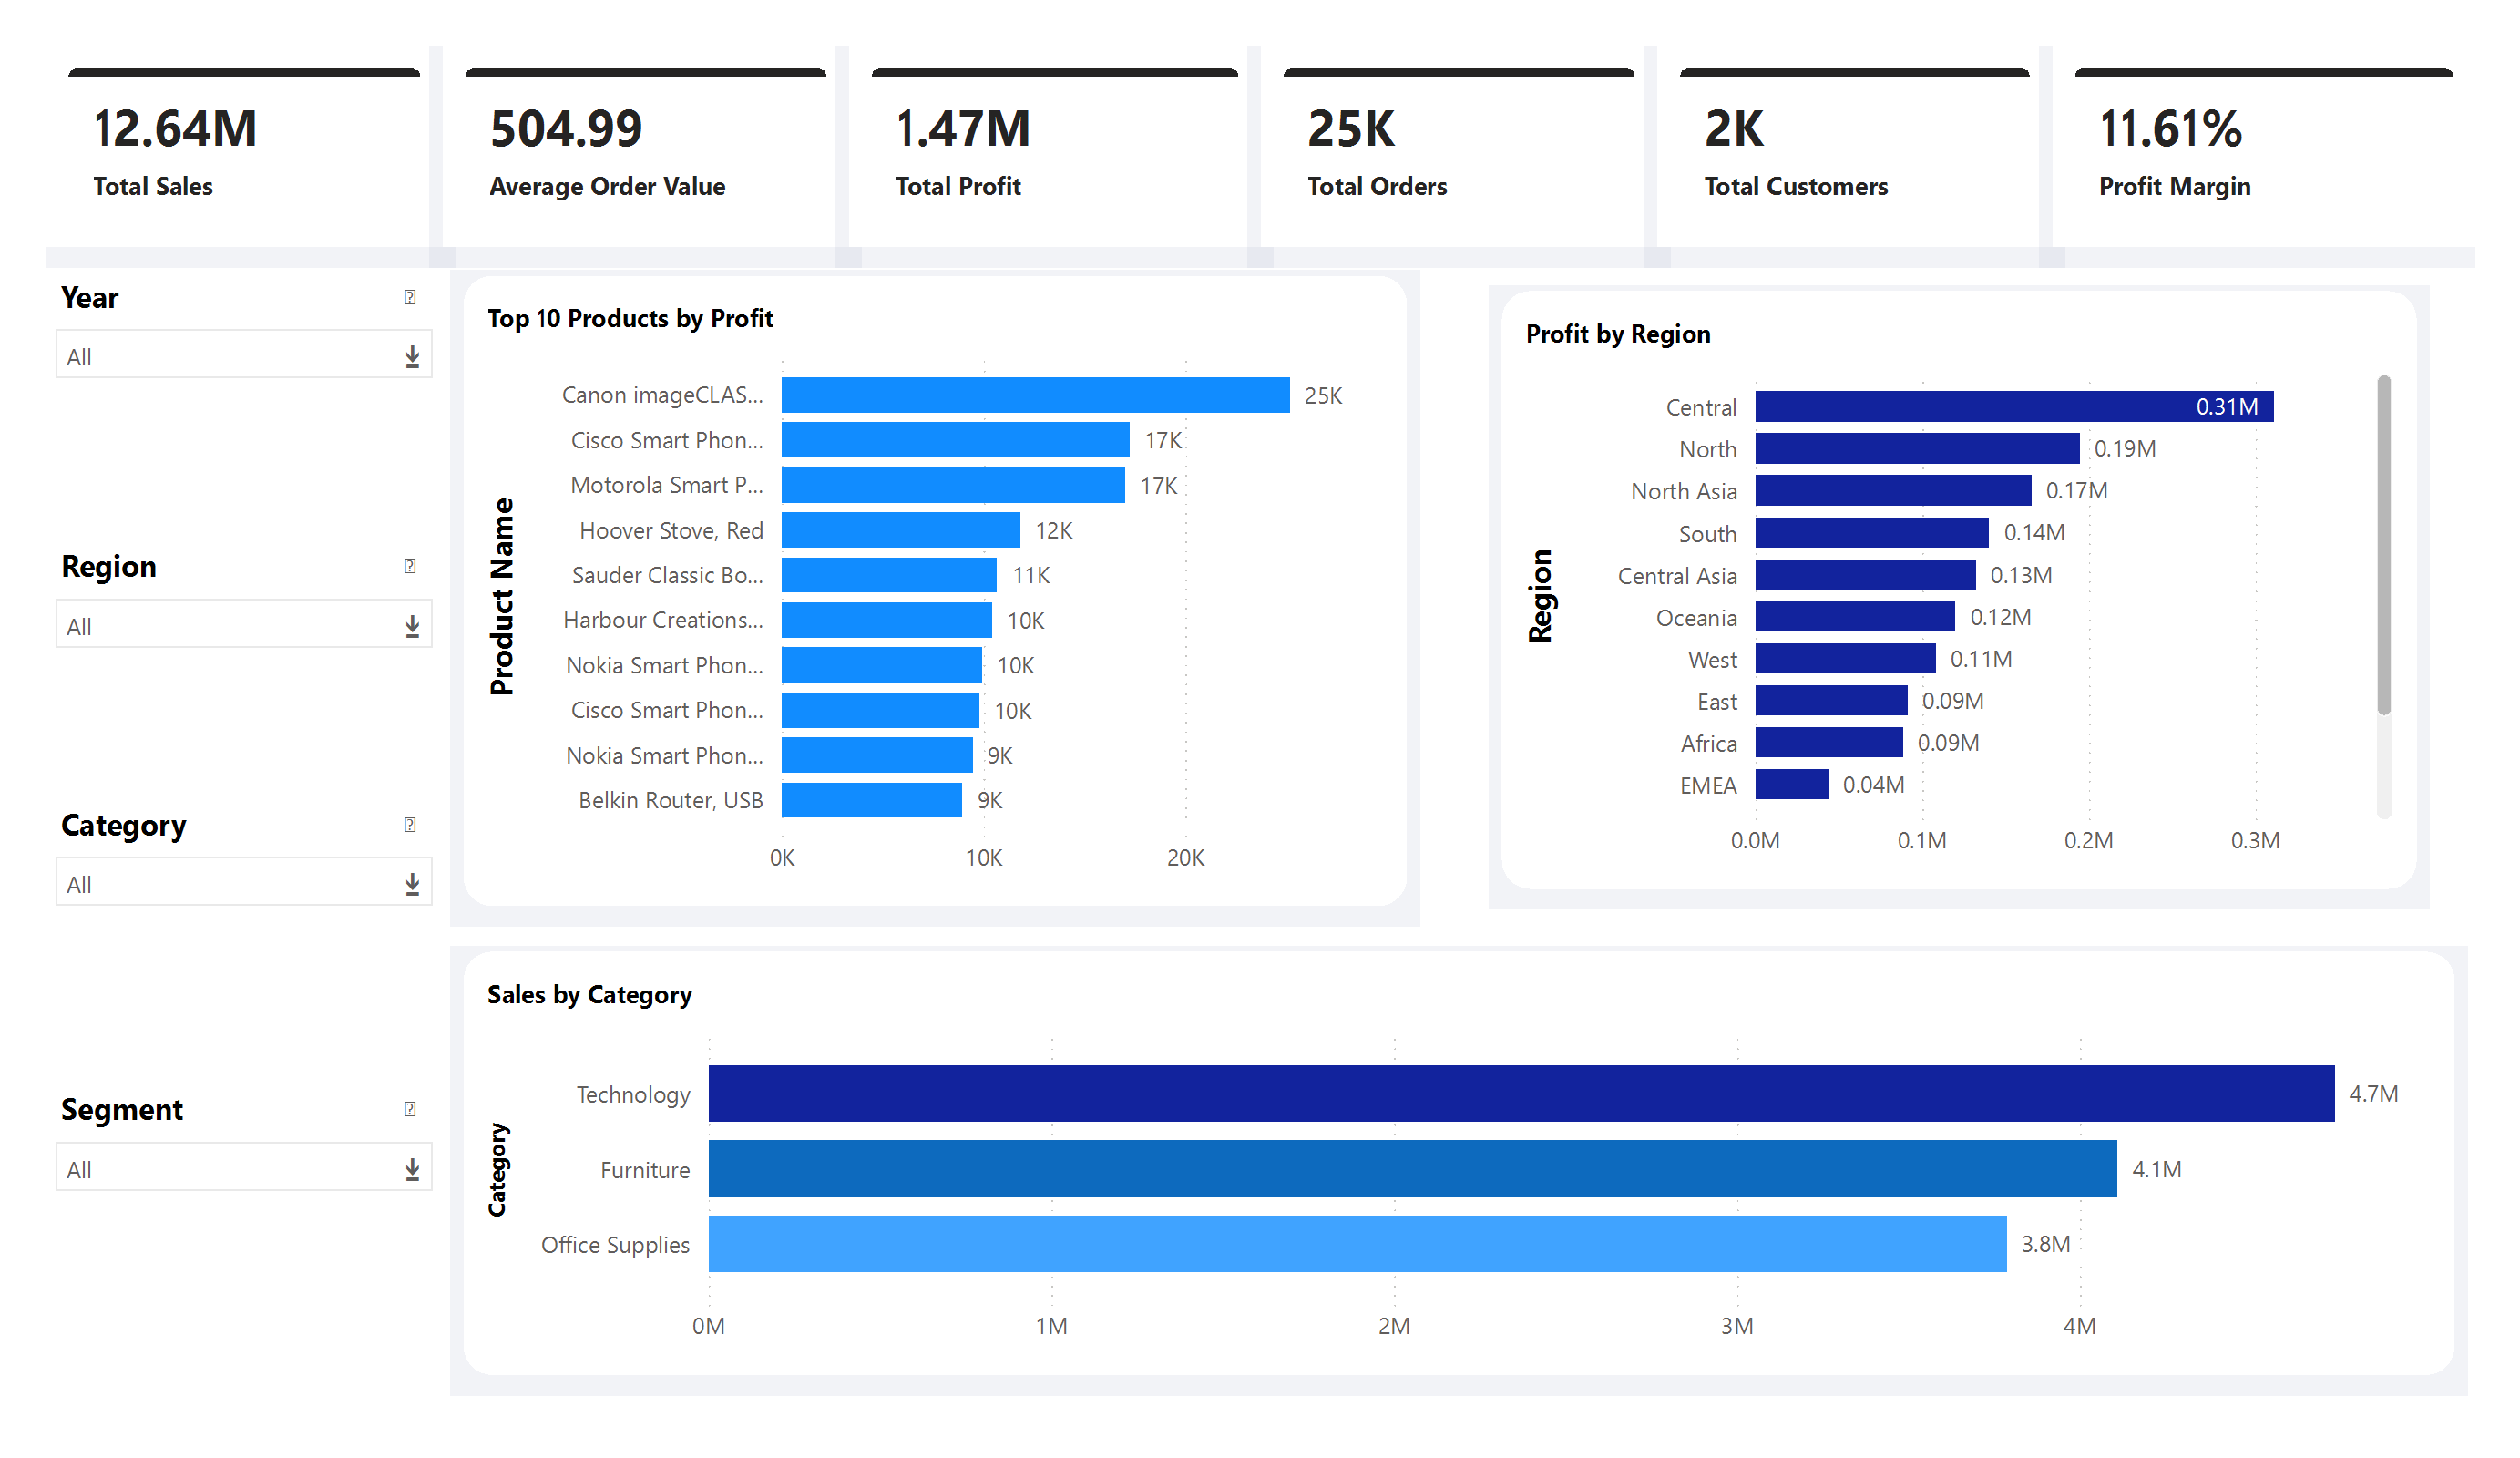

What the dashboard file says about the page in this screenshot:
{"tool":"powerbi","page":{"name":"Executive Overview","canvas":[1280,720],"ordinal":0},"visuals":[{"type":"shape","box":[0,0,1280,105.7],"z":0},{"type":"cardVisual","fields":{"Data":["Superstore.Total Sales"]},"box":[0,0,208.6,105.7],"z":1000},{"type":"cardVisual","fields":{"Data":["Superstore.Average Order Value"]},"box":[208.6,0,214.3,105.7],"z":2000},{"type":"cardVisual","fields":{"Data":["Superstore.Total Profit"]},"box":[422.9,0,217.1,105.7],"z":3000},{"type":"cardVisual","fields":{"Data":["Superstore.Total Orders"]},"box":[640,0,208.6,105.7],"z":4000},{"type":"cardVisual","fields":{"Data":["Superstore.Total Customers"]},"box":[848.6,0,208.6,105.7],"z":5000},{"type":"cardVisual","fields":{"Data":["Superstore.Profit Margin"]},"box":[1057.1,0,222.9,105.7],"z":6000},{"type":"clusteredBarChart","title":"Sales by Category","fields":{"Category":["Superstore.Category"],"Y":["Superstore.Total Sales"]},"box":[220,477.1,1048.6,222.9],"z":7000},{"type":"clusteredBarChart","title":"Profit by Region","fields":{"Category":["Superstore.Region"],"Y":["Superstore.Total Profit"]},"box":[767.1,128.6,481.4,315.7],"z":8000},{"type":"clusteredBarChart","title":"Top 10 Products by Profit","fields":{"Y":["Superstore.Total Profit"],"Category":["Superstore.Product Name"]},"box":[220,121.4,497.1,331.4],"z":9000},{"type":"slicer","fields":{"Values":["DateTable.Year"]},"box":[0,121.4,208.6,78.6],"z":10000},{"type":"slicer","fields":{"Values":["Superstore.Segment"]},"box":[0,548.6,208.6,78.6],"z":11000},{"type":"slicer","fields":{"Values":["Superstore.Category"]},"box":[0,398.6,208.6,78.6],"z":12000},{"type":"slicer","fields":{"Values":["Superstore.Region"]},"box":[0,262.9,208.6,78.6],"z":13000}]}

Visuals, with their boxes on the page's 1280x720 design canvas (x1, y1, x2, y2). These are canvas units, not pixel positions in the 2520x1458 screenshot, which may show the page scaled, cropped or inside an application window:
shape: rect(0, 0, 1280, 106)
cardVisual - Superstore.Total Sales: rect(0, 0, 209, 106)
cardVisual - Superstore.Average Order Value: rect(209, 0, 423, 106)
cardVisual - Superstore.Total Profit: rect(423, 0, 640, 106)
cardVisual - Superstore.Total Orders: rect(640, 0, 849, 106)
cardVisual - Superstore.Total Customers: rect(849, 0, 1057, 106)
cardVisual - Superstore.Profit Margin: rect(1057, 0, 1280, 106)
"Sales by Category" clusteredBarChart: rect(220, 477, 1269, 700)
"Profit by Region" clusteredBarChart: rect(767, 129, 1248, 444)
"Top 10 Products by Profit" clusteredBarChart: rect(220, 121, 717, 453)
slicer - DateTable.Year: rect(0, 121, 209, 200)
slicer - Superstore.Segment: rect(0, 549, 209, 627)
slicer - Superstore.Category: rect(0, 399, 209, 477)
slicer - Superstore.Region: rect(0, 263, 209, 342)
